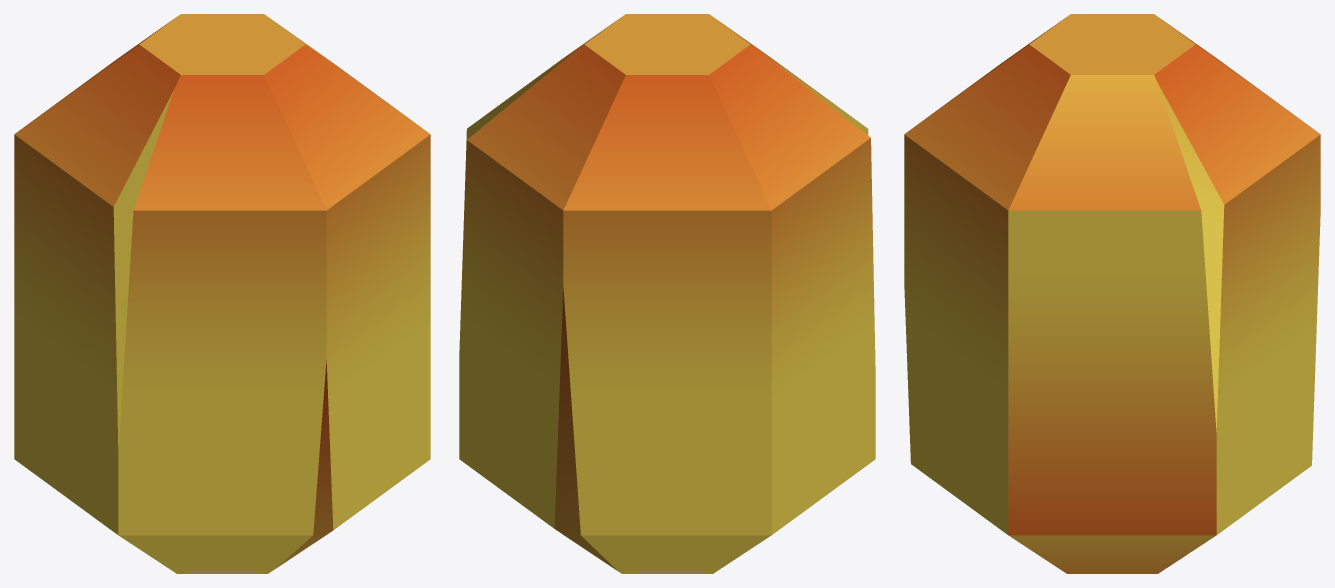
Rendered from Gold_stone_farm.fbx.
The picture shows the model from 3 angles, left to right: view 1: azimuth 30°, elevation 25°; view 2: azimuth 150°, elevation 25°; view 3: azimuth 270°, elevation 25°; orthographic projection.
Visible parts, largest first — view 1: Cylinder; view 2: Cylinder; view 3: Cylinder.
Part boxes in pixels (x1,y1,x2,y2): Cylinder: [14, 14, 430, 573]; Cylinder: [459, 14, 875, 573]; Cylinder: [904, 14, 1320, 573].
Bounding box in the file's own units: 0.5529 × 0.6384 × 0.8393.
